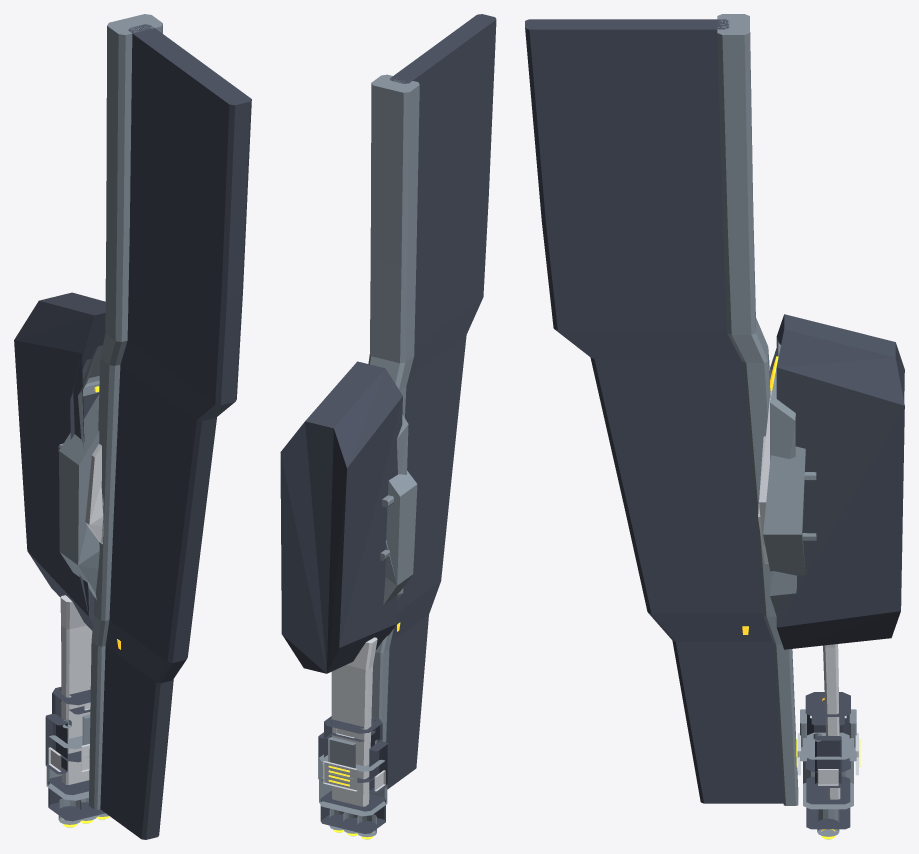
Rendered from LaserRepeaterArmW_Left_T1.glb.
3 renders of one model, left to right at view 1: azimuth 30°, elevation 25°; view 2: azimuth 150°, elevation 25°; view 3: azimuth 270°, elevation 25°, orthographic. The views are drawn at different scales.
Visible parts, largest first — view 1: BasicArmW_Left_Skel_part00, BasicArmW_Left_Skel_part01, BasicArmW_Left_Skel_part02, Laser Repeater Receiver, Laser Repeater Rails and Casing, Laser Repeater Accent; view 2: BasicArmW_Left_Skel_part00, BasicArmW_Left_Skel_part01, BasicArmW_Left_Skel_part02, Laser Repeater Receiver, Laser Repeater Rails and Casing, Laser Repeater Accent; view 3: BasicArmW_Left_Skel_part00, BasicArmW_Left_Skel_part01, Laser Repeater Receiver, Laser Repeater Rails and Casing, BasicArmW_Left_Skel_part02, Laser Repeater Accent.
Boxes of the visible parts, x1=… form: BasicArmW_Left_Skel_part00: x1=89, y1=14, x2=251, y2=839; BasicArmW_Left_Skel_part01: x1=14, y1=292, x2=105, y2=630; BasicArmW_Left_Skel_part02: x1=60, y1=595, x2=120, y2=784; Laser Repeater Receiver: x1=45, y1=687, x2=105, y2=821; Laser Repeater Rails and Casing: x1=46, y1=714, x2=108, y2=824; Laser Repeater Accent: x1=48, y1=702, x2=105, y2=827; BasicArmW_Left_Skel_part00: x1=368, y1=14, x2=496, y2=789; BasicArmW_Left_Skel_part01: x1=280, y1=361, x2=417, y2=673; BasicArmW_Left_Skel_part02: x1=331, y1=622, x2=400, y2=806; Laser Repeater Receiver: x1=318, y1=716, x2=388, y2=833; Laser Repeater Rails and Casing: x1=319, y1=737, x2=387, y2=837; Laser Repeater Accent: x1=322, y1=728, x2=385, y2=839; BasicArmW_Left_Skel_part00: x1=525, y1=14, x2=798, y2=805; BasicArmW_Left_Skel_part01: x1=758, y1=314, x2=904, y2=649; Laser Repeater Receiver: x1=805, y1=692, x2=850, y2=829; Laser Repeater Rails and Casing: x1=800, y1=709, x2=856, y2=836; BasicArmW_Left_Skel_part02: x1=742, y1=626, x2=840, y2=799; Laser Repeater Accent: x1=797, y1=715, x2=858, y2=839.
Size of the model in its own units: 2.02 by 15.35 by 6.55.
